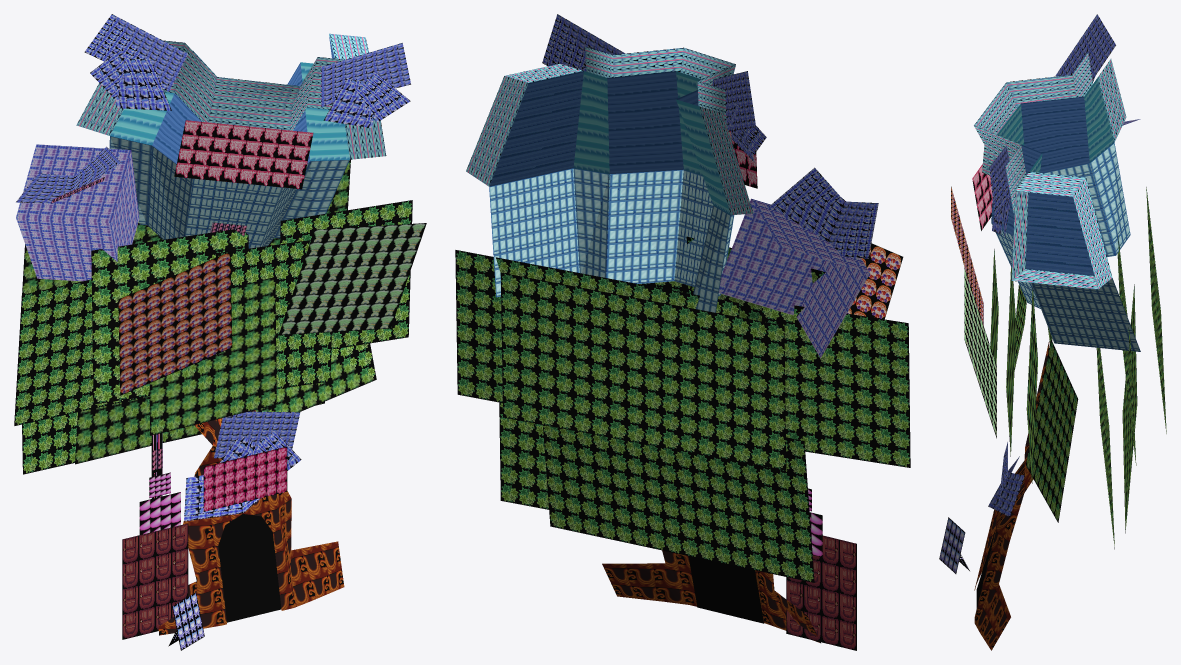
File: tp_huku00.gltf
3 renders of one model, left to right at view 1: azimuth 30°, elevation 25°; view 2: azimuth 150°, elevation 25°; view 3: azimuth 270°, elevation 25°, orthographic. The views are drawn at different scales.
Parts seen in each view (by area): view 1: tp_huku00; view 2: tp_huku00; view 3: tp_huku00.
Part boxes in pixels (box(x1,y1,x2,y2)): tp_huku00: box(14, 14, 426, 650); tp_huku00: box(455, 14, 910, 650); tp_huku00: box(939, 14, 1166, 650).
Bounding box in the file's own units: 5.08 × 7.07 × 2.63.
19 materials, 19 textured.
